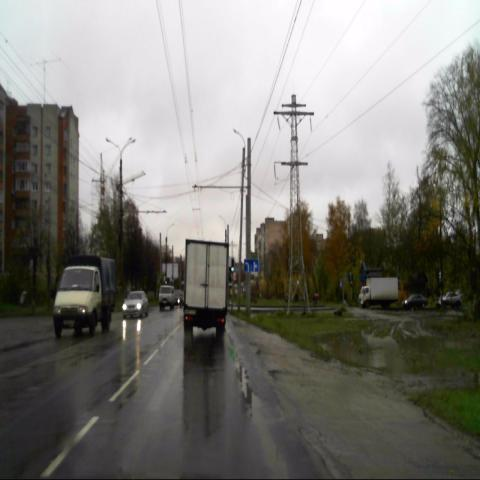5_15_2_2: (243, 257, 260, 274)
